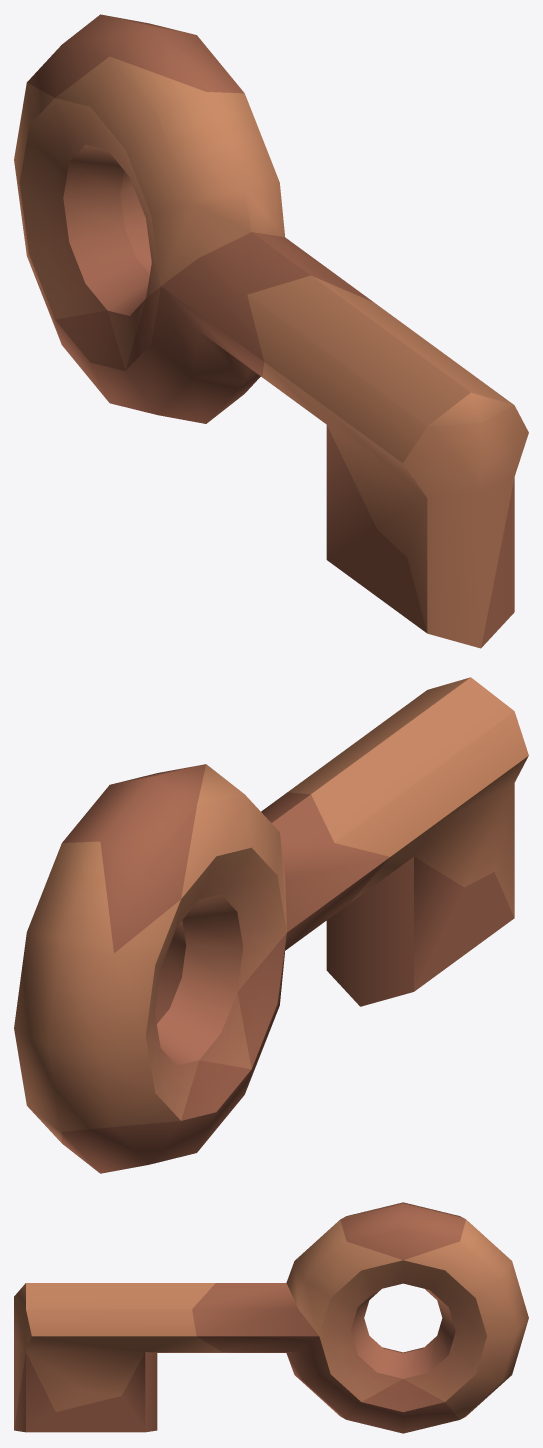
The model's file is key_a.glb.
3 views of the same model, one above another, from view 1: azimuth 30°, elevation 25°; view 2: azimuth 150°, elevation 25°; view 3: azimuth 270°, elevation 25° (orthographic). The views are drawn at different scales.
Visible parts, largest first — view 1: key_A; view 2: key_A; view 3: key_A.
Part boxes in pixels (x1=…): key_A: x1=14, y1=14, x2=528, y2=648; key_A: x1=14, y1=677, x2=528, y2=1173; key_A: x1=14, y1=1202, x2=528, y2=1433.
Bounding box in the file's own units: 0.1448 × 0.4209 × 0.8621.
1 material, 1 textured.
